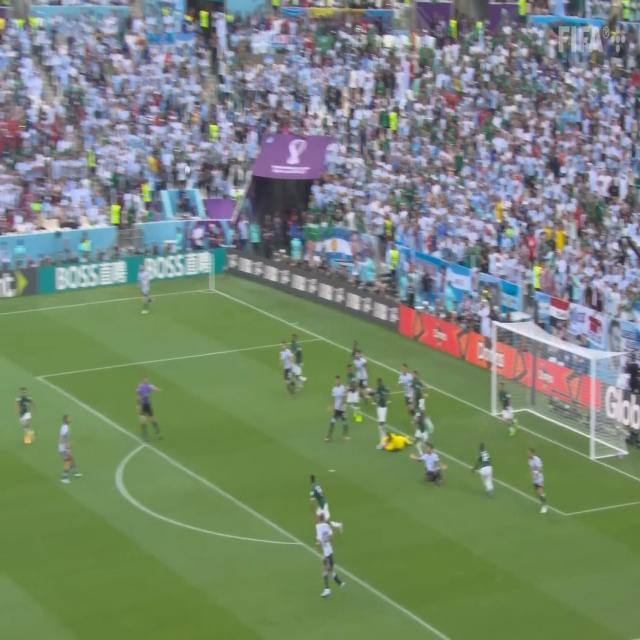player: (314, 506, 349, 608), (309, 466, 344, 531), (59, 408, 82, 494), (327, 371, 350, 453), (527, 445, 551, 516), (373, 371, 393, 456), (498, 376, 522, 440), (16, 388, 41, 448), (474, 440, 501, 495), (398, 352, 417, 427), (408, 364, 428, 430), (290, 329, 311, 391), (138, 265, 157, 322), (353, 349, 371, 402), (280, 341, 295, 401), (378, 428, 413, 452)
